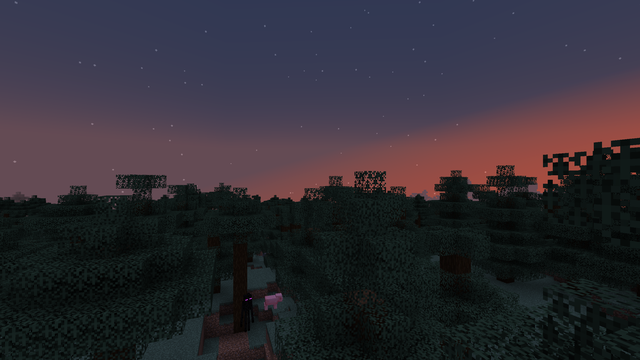cochons: (264, 293, 276, 310)
endermens: (242, 291, 250, 333)
